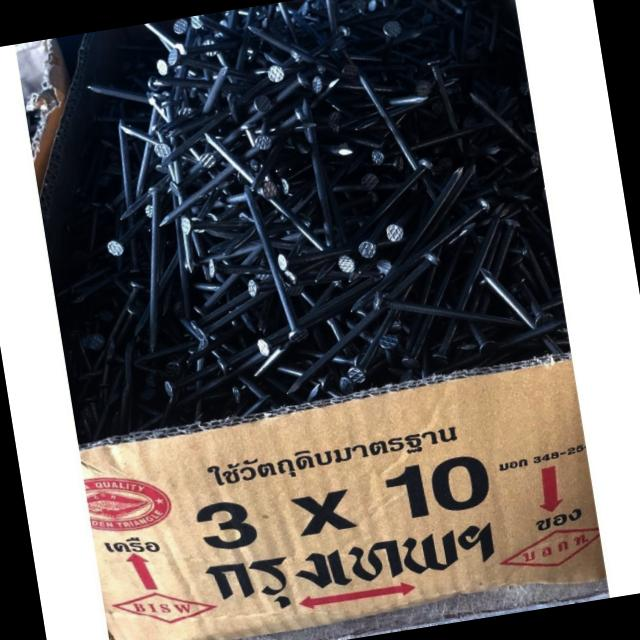3x10 nail: (341, 143, 524, 320), (228, 166, 348, 356), (104, 164, 210, 362)
